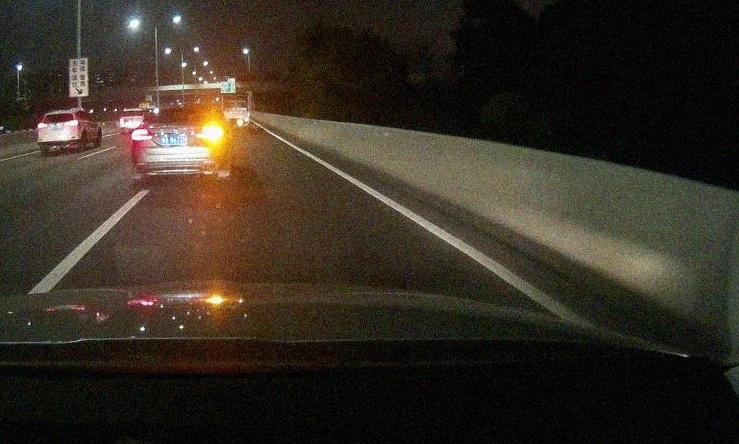L_light: (131, 129, 152, 141), (38, 122, 47, 128)
R_light: (196, 126, 224, 140), (65, 120, 78, 126)
T_light: (175, 108, 187, 111), (55, 114, 63, 116)
night-no: (37, 109, 79, 153)
night-right: (130, 101, 225, 183)
